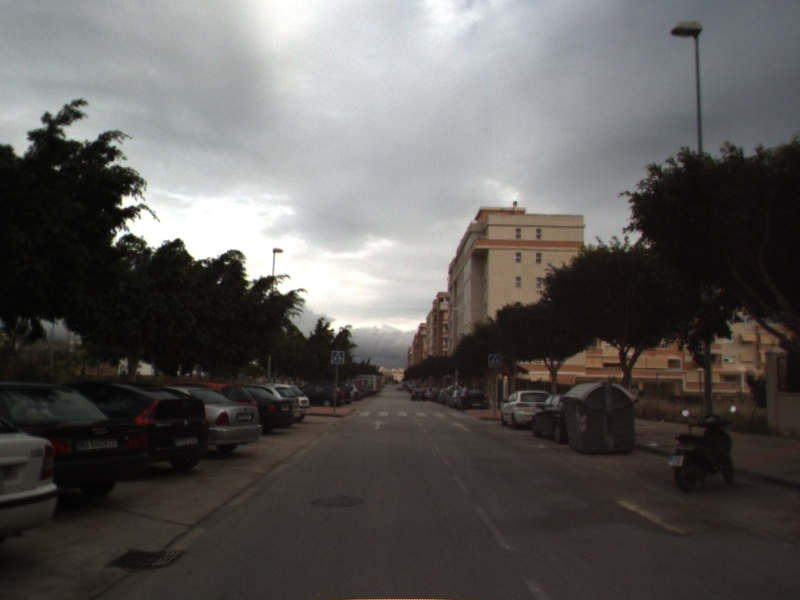STRAIGHT: (449, 420, 473, 434), (368, 418, 390, 432)
